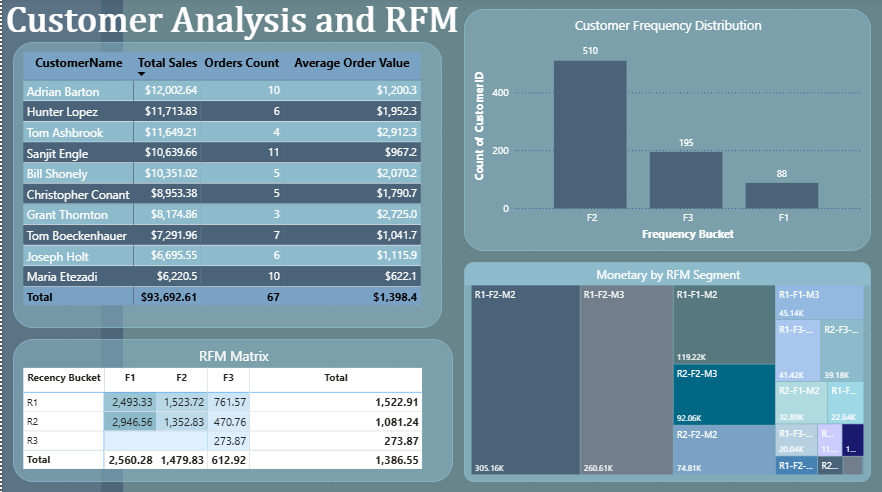

This screenshot's page, from the dashboard's own definition file:
{"tool":"powerbi","page":{"name":"Customer Analysis & RFM","canvas":[1280,720],"ordinal":1},"visuals":[{"type":"shape","box":[144,0,1136,720],"z":0},{"type":"shape","box":[0,0,176,720],"z":1000},{"type":"textbox","box":[0,0,704,80],"z":2000},{"type":"pivotTable","fields":{"Rows":["sales_analytics customers.CustomerName"],"Values":["_Measures.Total Sales","_Measures.Orders Count","_Measures.Average Order Value"]},"box":[16,64,624,416],"z":3000},{"type":"pivotTable","title":"RFM Matrix","fields":{"Rows":["sales_analytics vw_customer_metrics.Recency Bucket"],"Columns":["sales_analytics vw_customer_metrics.Frequency Bucket"],"Values":["sales_analytics vw_customer_metrics.monetary"]},"box":[16,496,640,208],"z":4000},{"type":"treemap","title":"Monetary by RFM Segment","fields":{"Group":["sales_analytics vw_customer_metrics.RFM Segment"],"Values":["sales_analytics vw_customer_metrics.monetary"]},"box":[672,384,592,320],"z":5000},{"type":"clusteredColumnChart","title":"Customer Frequency Distribution","fields":{"Category":["sales_analytics vw_customer_metrics.Frequency Bucket"],"Y":["sales_analytics vw_customer_metrics.CustomerID"]},"box":[672,16,592,352],"z":6000}]}

Visuals, with their boxes in screenshot pixels (x1, y1, x2, y2), scaled from the page's 1280x720 canvas onto the 882x492 screenshot:
shape: 99/0/881/491
shape: 0/0/121/491
textbox: 0/0/485/55
pivotTable - sales_analytics customers.CustomerName x _Measures.Total Sales: 11/44/441/328
"RFM Matrix" pivotTable: 11/339/452/481
"Monetary by RFM Segment" treemap: 463/262/871/481
"Customer Frequency Distribution" clusteredColumnChart: 463/11/871/251
